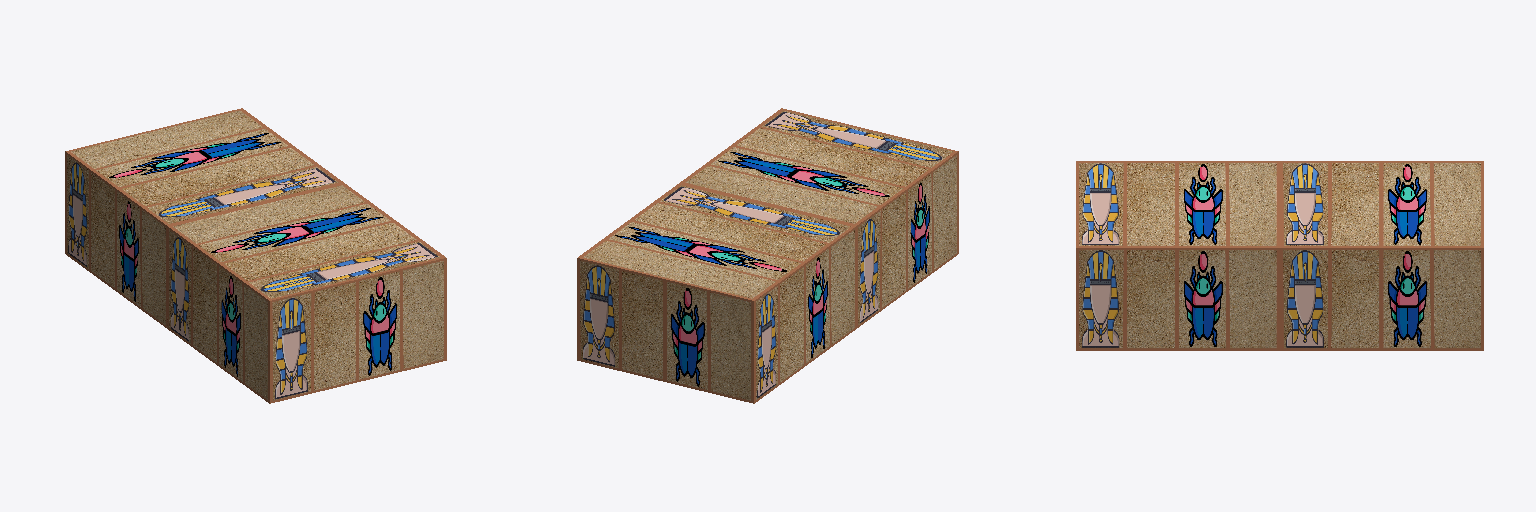
The picture shows the model from 3 angles: view 1: azimuth 30°, elevation 25°; view 2: azimuth 150°, elevation 25°; view 3: azimuth 270°, elevation 25°; orthographic projection.
Visible parts, largest first — view 1: Box139; view 2: Box139; view 3: Box139.
Boxes of the visible parts, box(x1,y1,x2,y2) form: Box139: box(65, 108, 446, 403); Box139: box(577, 108, 958, 403); Box139: box(1076, 161, 1483, 350).
Size of the model in its own units: 4.5 by 2.5 by 9.
1 materials, 1 textured.